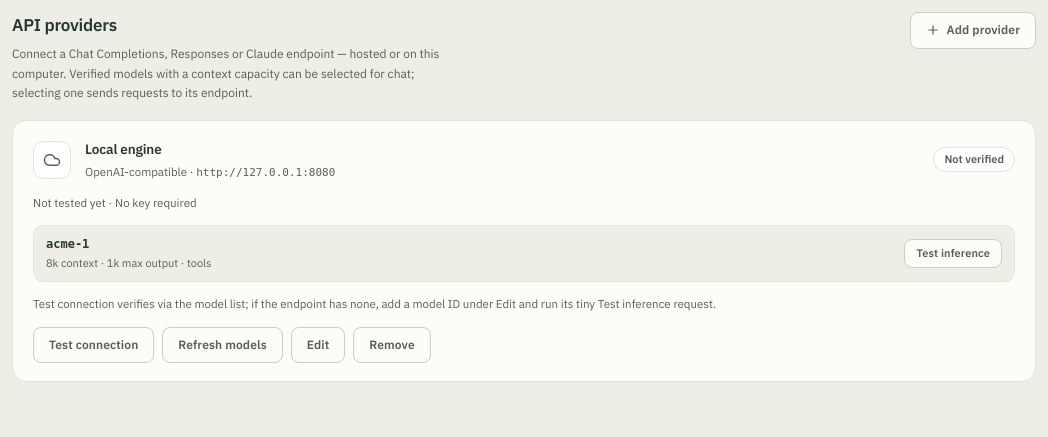
Test: shows no Use action for unverified providers and offers inference tests on loopback
Expected: the text "Not verified" is shown, [934,147,1015,172]
What coordinates should you click on to do the following:
click the button "Test inference"
I would click on:
 (953, 254)
Its box is [904,239,1002,268].
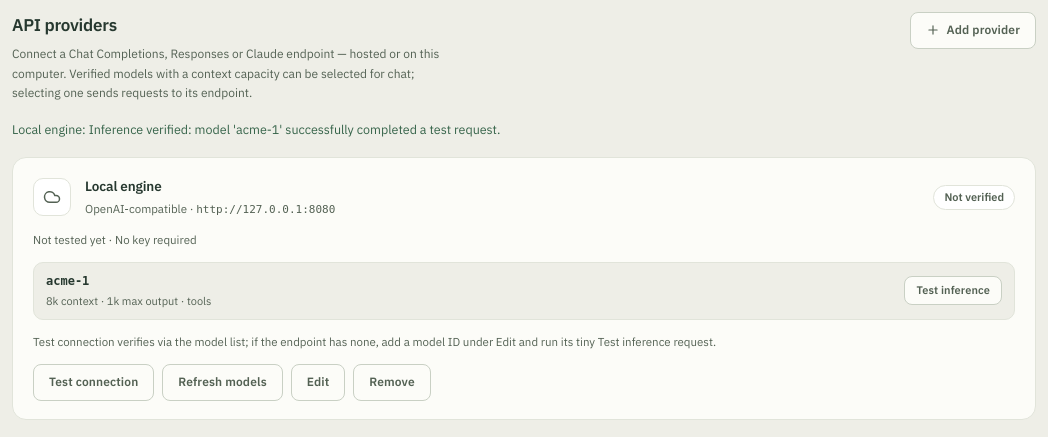
Expected: the message shows "Inference verified", [12,121,500,137]
